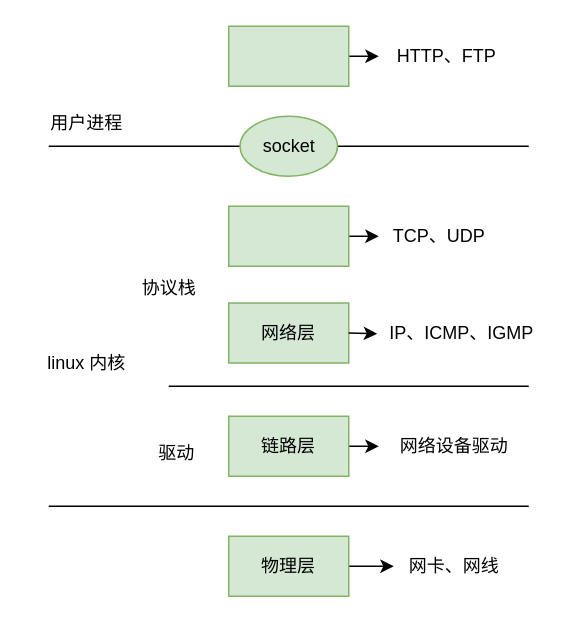
Some shapes in this 576 by 623 pixel diagram are drawn without their labels. The centre of each missing label's shape, as x and y in pixels:
传输层: [288,235]
应用层: [288,55]
